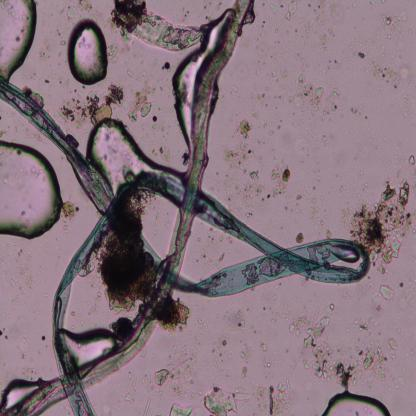Air bubble: (171, 11, 228, 143), (0, 139, 62, 239), (87, 116, 163, 179), (0, 0, 39, 81), (67, 18, 108, 86), (63, 325, 118, 362), (321, 392, 391, 415), (0, 376, 42, 414)
Background material: (98, 188, 160, 308), (347, 172, 414, 271), (298, 318, 388, 385), (224, 117, 264, 200), (59, 91, 126, 122), (296, 70, 340, 117), (153, 351, 193, 397), (203, 383, 252, 415), (190, 231, 232, 266), (254, 379, 296, 414), (159, 293, 191, 334), (10, 240, 37, 288), (306, 196, 331, 238), (121, 370, 147, 405), (376, 14, 406, 44), (372, 61, 402, 91), (76, 0, 116, 22), (126, 90, 153, 121), (248, 84, 273, 117), (270, 157, 290, 198), (282, 184, 309, 214), (212, 330, 228, 372), (222, 303, 246, 331), (101, 130, 121, 163), (288, 346, 304, 378), (239, 344, 253, 378), (0, 0, 19, 25), (399, 279, 416, 306), (7, 277, 26, 301), (318, 27, 336, 52), (266, 113, 284, 138), (62, 199, 81, 221), (150, 144, 172, 162), (258, 338, 270, 370), (378, 282, 396, 302), (266, 306, 287, 323), (305, 14, 322, 35), (288, 317, 306, 336), (118, 30, 132, 54), (176, 4, 191, 25), (169, 402, 195, 414), (351, 46, 368, 64), (353, 318, 370, 336), (285, 0, 298, 21), (193, 315, 208, 333), (401, 66, 414, 86), (40, 10, 54, 28), (64, 5, 79, 21), (233, 58, 245, 78), (129, 70, 146, 84), (45, 72, 64, 84), (21, 366, 40, 378), (70, 310, 85, 325), (388, 338, 398, 360), (203, 0, 223, 10), (108, 44, 122, 58), (266, 3, 279, 18), (272, 71, 288, 83), (41, 45, 54, 59), (394, 373, 406, 388), (402, 90, 412, 108), (319, 130, 330, 145), (188, 341, 204, 351), (148, 114, 158, 130), (294, 231, 306, 244), (160, 59, 172, 72), (241, 209, 255, 220), (352, 102, 363, 115), (144, 396, 151, 415), (0, 326, 9, 340), (406, 154, 416, 166), (31, 169, 42, 179), (273, 284, 279, 301), (228, 82, 238, 92), (288, 93, 297, 104), (403, 111, 414, 120), (374, 303, 382, 315), (20, 206, 26, 220), (40, 333, 49, 342), (255, 66, 263, 76), (278, 95, 284, 108), (20, 350, 27, 361), (54, 50, 64, 57), (204, 15, 214, 22), (60, 39, 68, 47), (54, 28, 62, 36), (372, 289, 378, 299), (262, 19, 267, 30), (330, 303, 336, 312), (358, 286, 364, 295), (22, 337, 28, 345), (277, 356, 282, 364), (14, 38, 22, 43), (273, 28, 278, 34), (47, 85, 51, 91)
Cellulose filter fibre: (13, 0, 250, 414), (111, 0, 202, 56)
Cotton: (0, 75, 370, 416)
